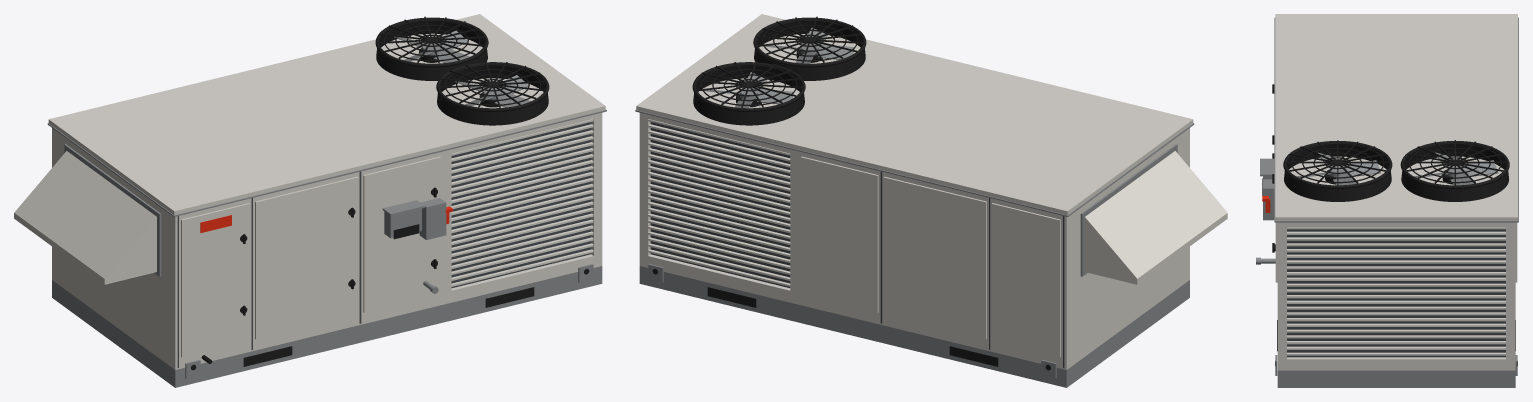
File: rtu.glb
3 views of the same model, side by side, from view 1: azimuth 30°, elevation 25°; view 2: azimuth 150°, elevation 25°; view 3: azimuth 270°, elevation 25° (orthographic). The views are drawn at different scales.
Visible parts, largest first — view 1: base_rail, cabinet_air_handler, flue_hood_opening, forklift_slots; view 2: base_rail, cabinet_air_handler, flue_hood_opening, forklift_slots; view 3: base_rail, flue_hood_opening, forklift_slots, cabinet_air_handler.
Part boxes in pixels (x1,y1,x2,y2): base_rail: [47, 14, 606, 387]; cabinet_air_handler: [14, 128, 446, 369]; flue_hood_opening: [201, 17, 549, 363]; forklift_slots: [191, 16, 589, 370]; base_rail: [635, 14, 1194, 387]; cabinet_air_handler: [796, 128, 1227, 369]; flue_hood_opening: [692, 17, 866, 125]; forklift_slots: [652, 16, 1050, 370]; base_rail: [1256, 14, 1518, 387]; flue_hood_opening: [1262, 141, 1509, 201]; forklift_slots: [1272, 84, 1517, 365]; cabinet_air_handler: [1263, 179, 1274, 220].
Bounding box in the file's own units: 3.4 × 1.32 × 1.66.
Materials: 4 (4 with a texture image).
